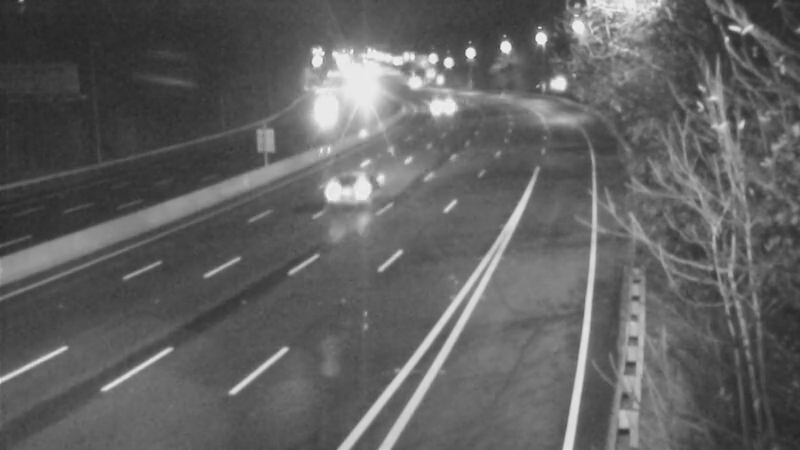vehicle: (325, 147, 405, 227), (388, 61, 438, 111), (418, 81, 468, 131), (301, 85, 351, 135)
